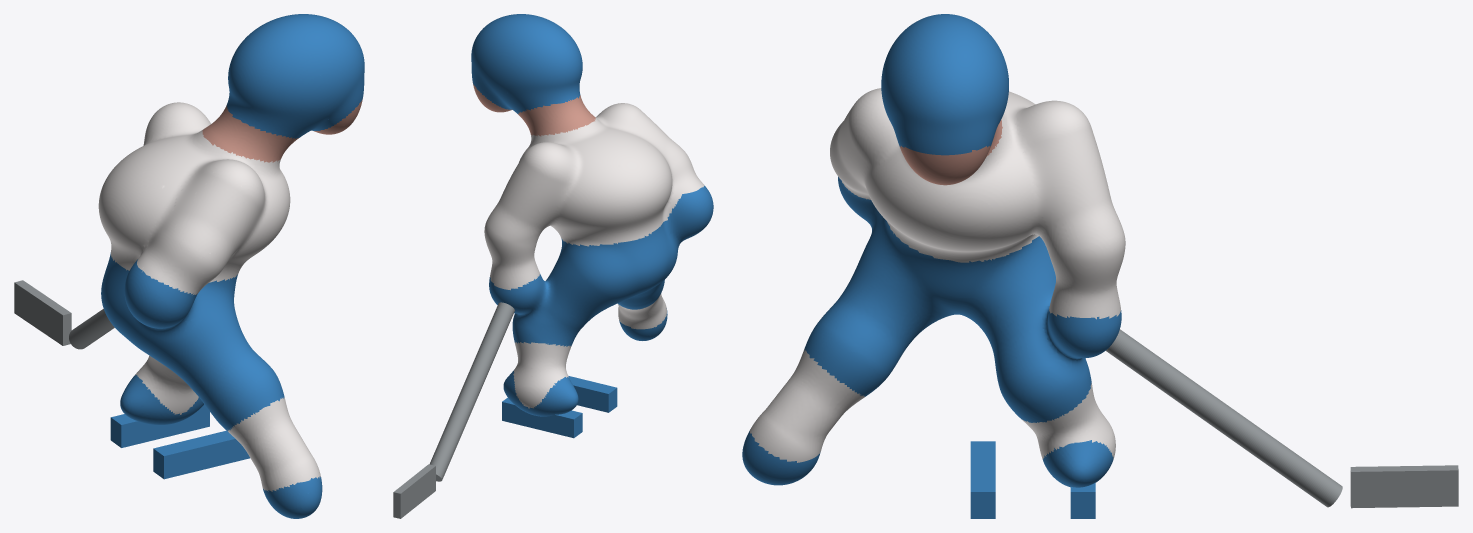
Rendered from skater_W-RD.glb.
3 views of the same model, side by side, from view 1: azimuth 30°, elevation 25°; view 2: azimuth 150°, elevation 25°; view 3: azimuth 270°, elevation 25° (orthographic). The views are drawn at different scales.
Parts seen in each view (by area): view 1: Skater.W-RD; view 2: Skater.W-RD; view 3: Skater.W-RD.
Part boxes in pixels (x1=…): Skater.W-RD: x1=14, y1=14, x2=364, y2=518; Skater.W-RD: x1=393, y1=14, x2=713, y2=518; Skater.W-RD: x1=742, y1=14, x2=1458, y2=518.
Size of the model in its own units: 0.035 by 0.0568 by 0.0717.
